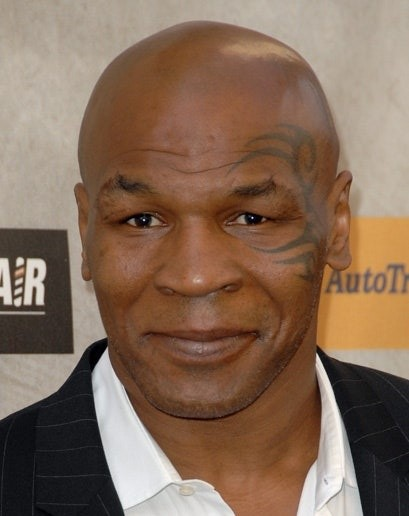face_no_mask: (73, 21, 353, 421)
